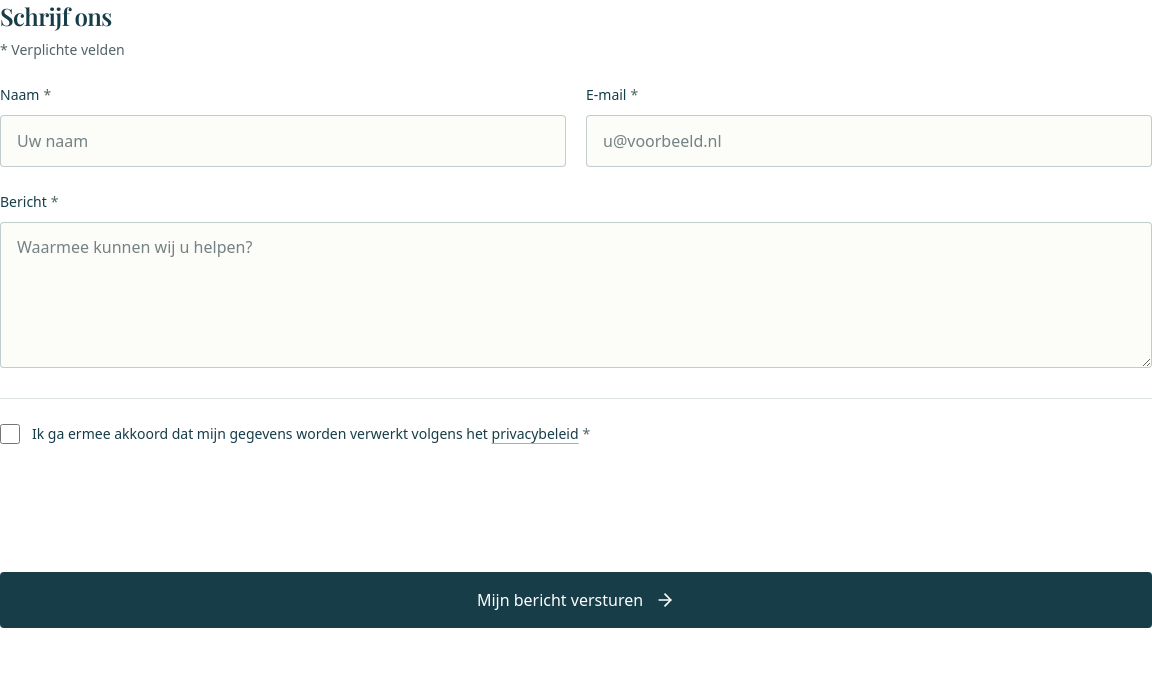
Test: form interaction contracts › keeps values and associates backend validation: nl
The image size is (1152, 674).
Type "Doe" into the field labelled "Naam*" at (283, 141), box [0,115,566,167]
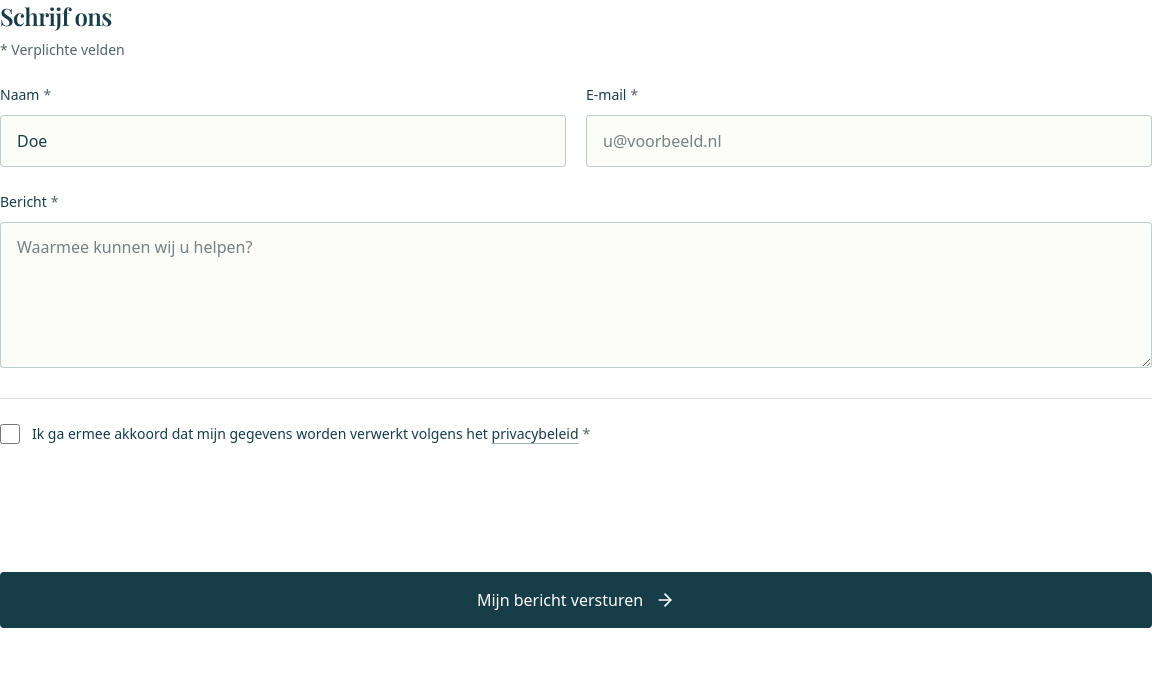
Type "jane@example.com" into the field labelled "E-mail*" at (869, 141), box [586,115,1151,167]
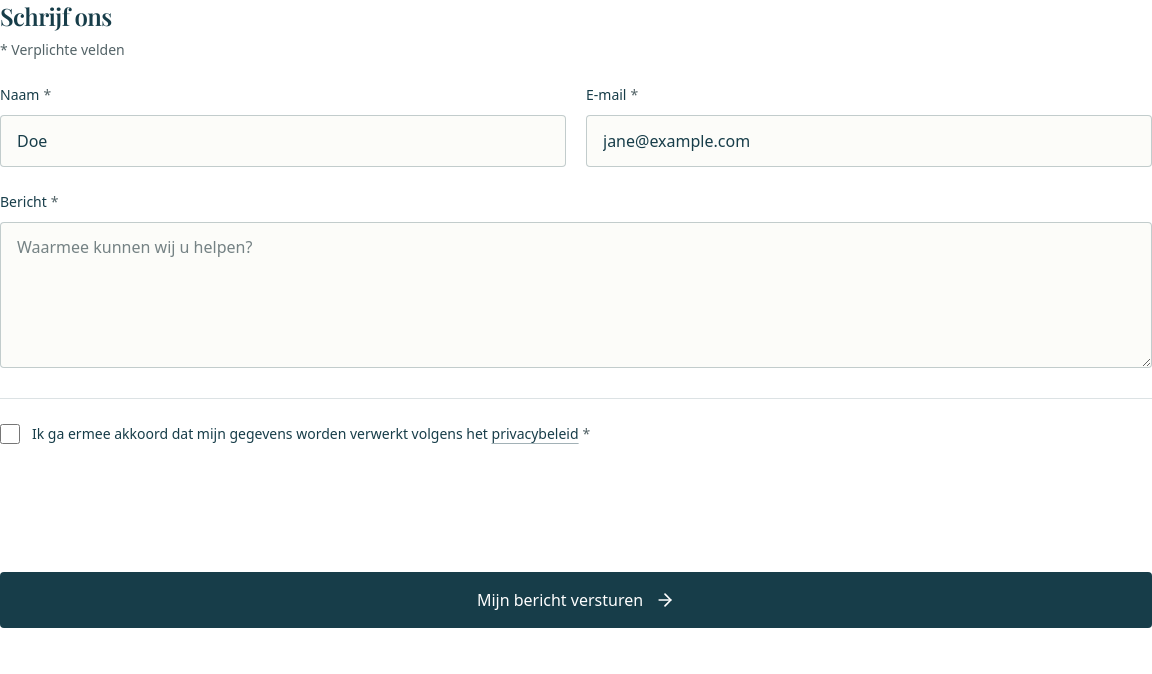
Type "Question about my accommodation" into the text box labelled "Bericht*" at (576, 294), box [0,222,1151,368]
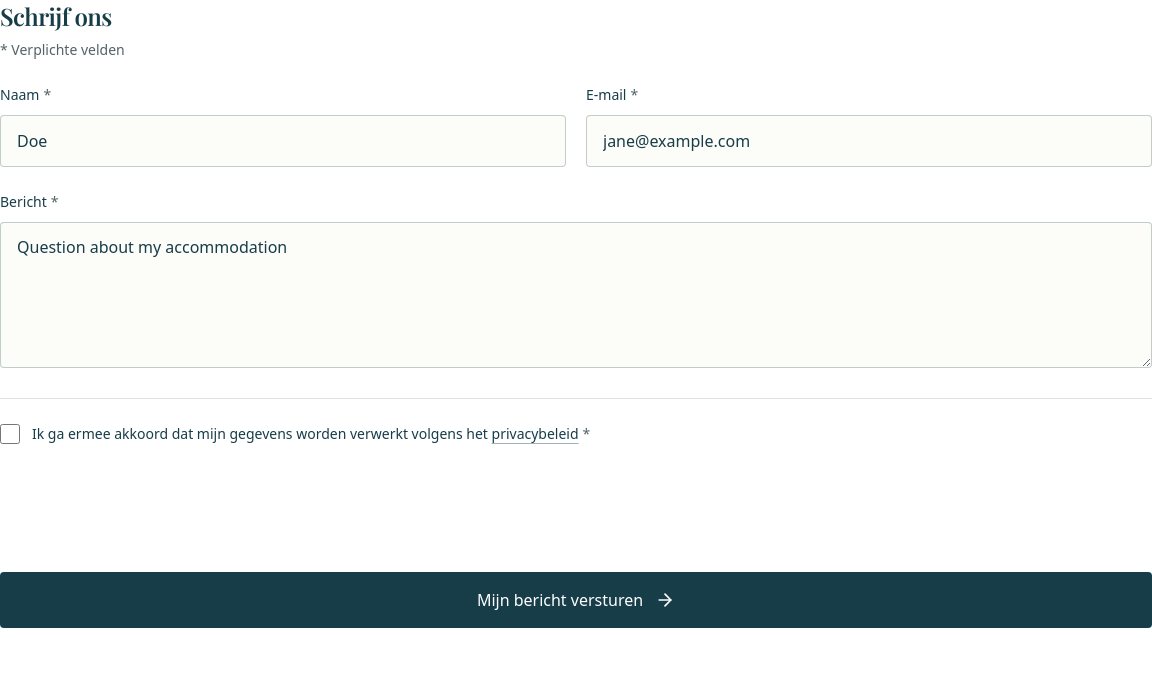
Click the checkbox at (10, 434), box [0,424,20,444]
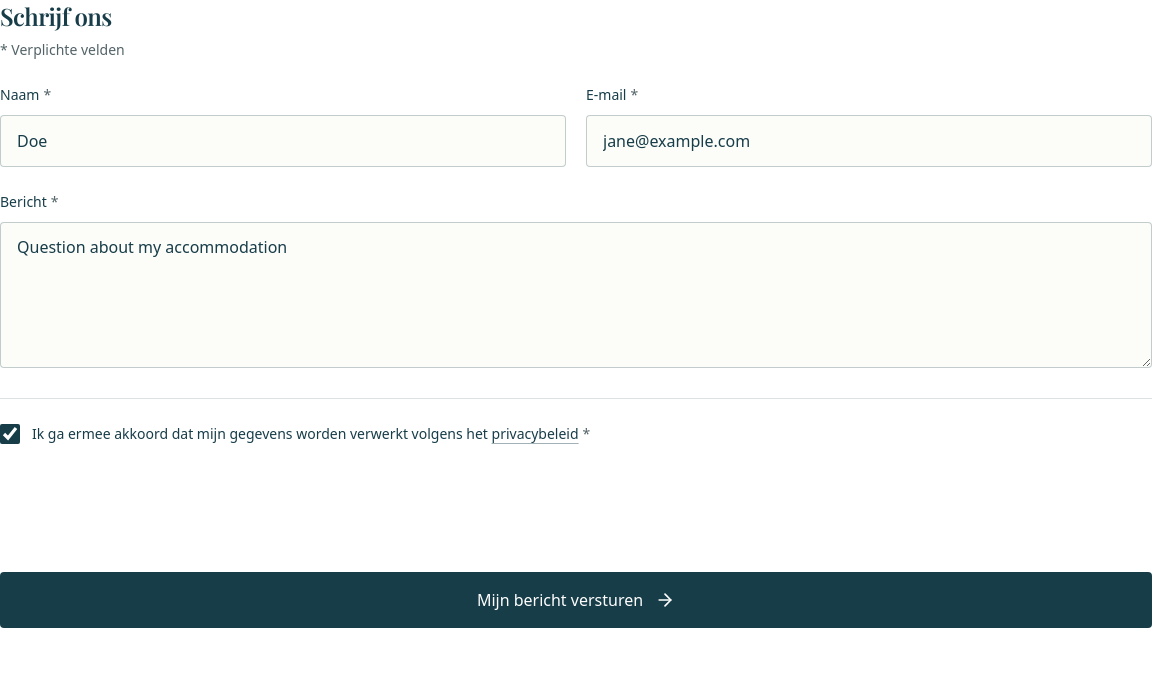
Submit the form
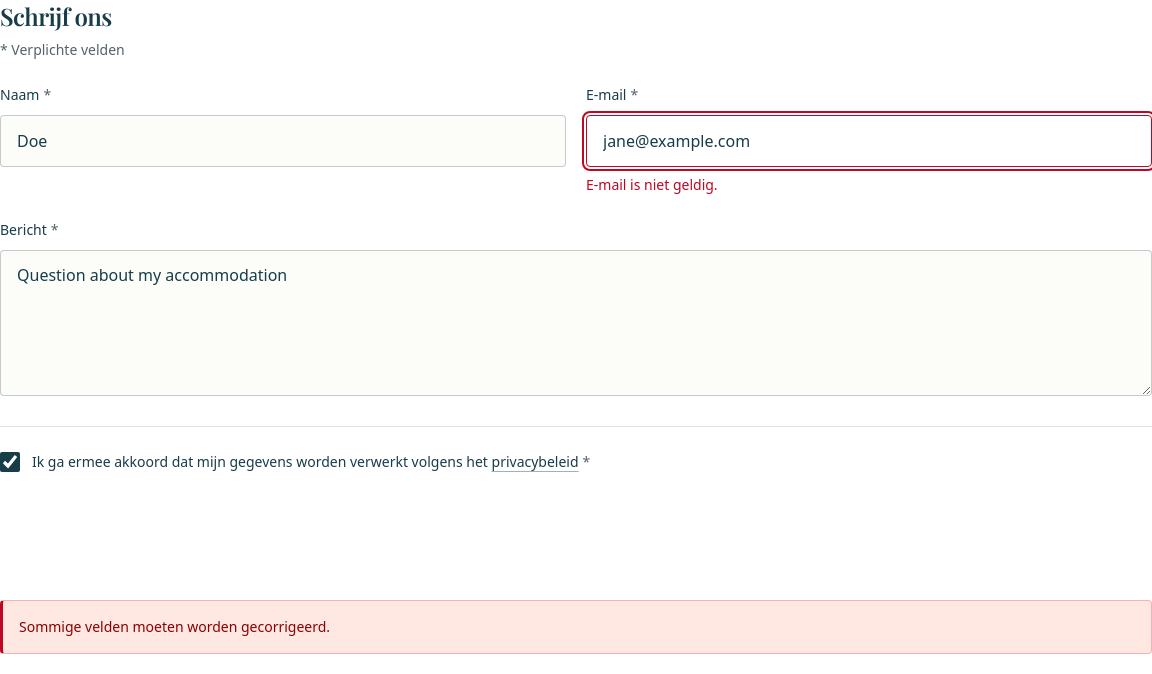
Result: the text "Sommige velden moeten worden gecorrigeerd." is shown at [0,600,1151,654]
